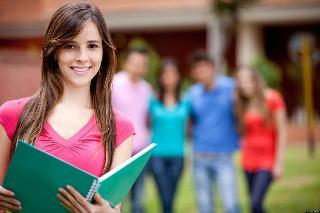person - v3 P: (0, 2, 134, 182), (189, 52, 239, 212), (235, 67, 286, 212), (149, 58, 189, 212), (112, 49, 152, 155)
